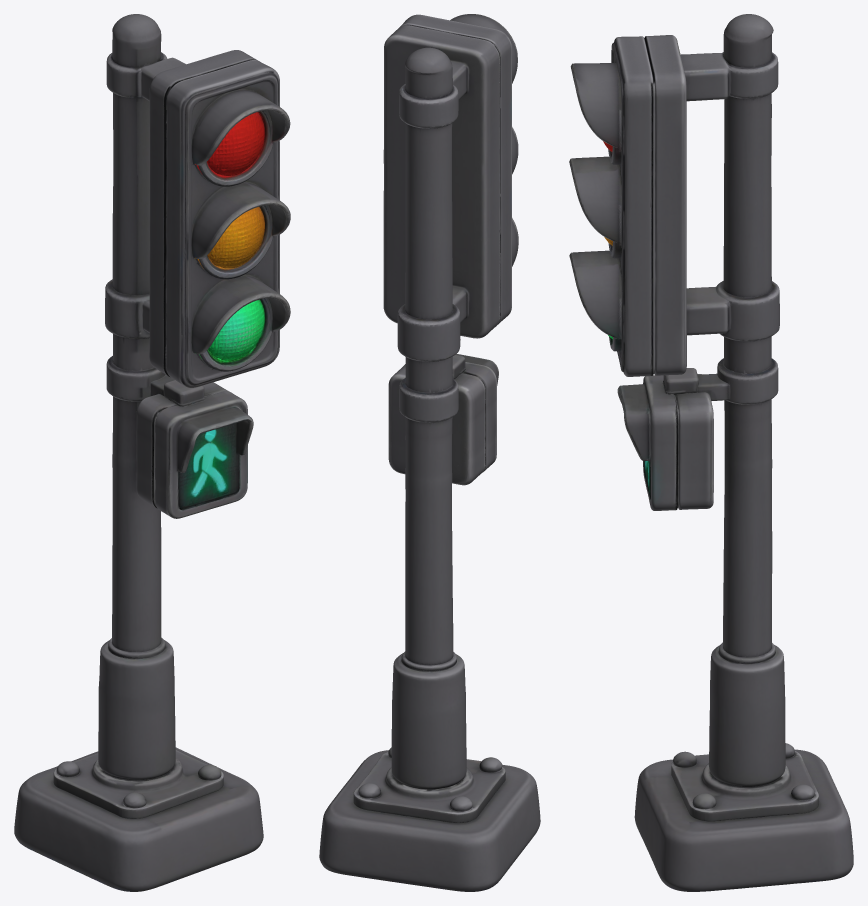
File: TrafficLight.fbx
3 views of the same model, side by side, from view 1: azimuth 30°, elevation 25°; view 2: azimuth 150°, elevation 25°; view 3: azimuth 270°, elevation 25° (orthographic). The views are drawn at different scales.
Visible parts, largest first — view 1: tripo_node_80d06978-21e6-4967-8237-d883990c7dfe; view 2: tripo_node_80d06978-21e6-4967-8237-d883990c7dfe; view 3: tripo_node_80d06978-21e6-4967-8237-d883990c7dfe.
Part boxes in pixels (x1,y1,x2,y2): tripo_node_80d06978-21e6-4967-8237-d883990c7dfe: [14, 14, 290, 891]; tripo_node_80d06978-21e6-4967-8237-d883990c7dfe: [319, 14, 540, 891]; tripo_node_80d06978-21e6-4967-8237-d883990c7dfe: [569, 14, 853, 891].
Size of the model in its own units: 23.56 by 98.08 by 30.47.
1 material, 1 textured.
